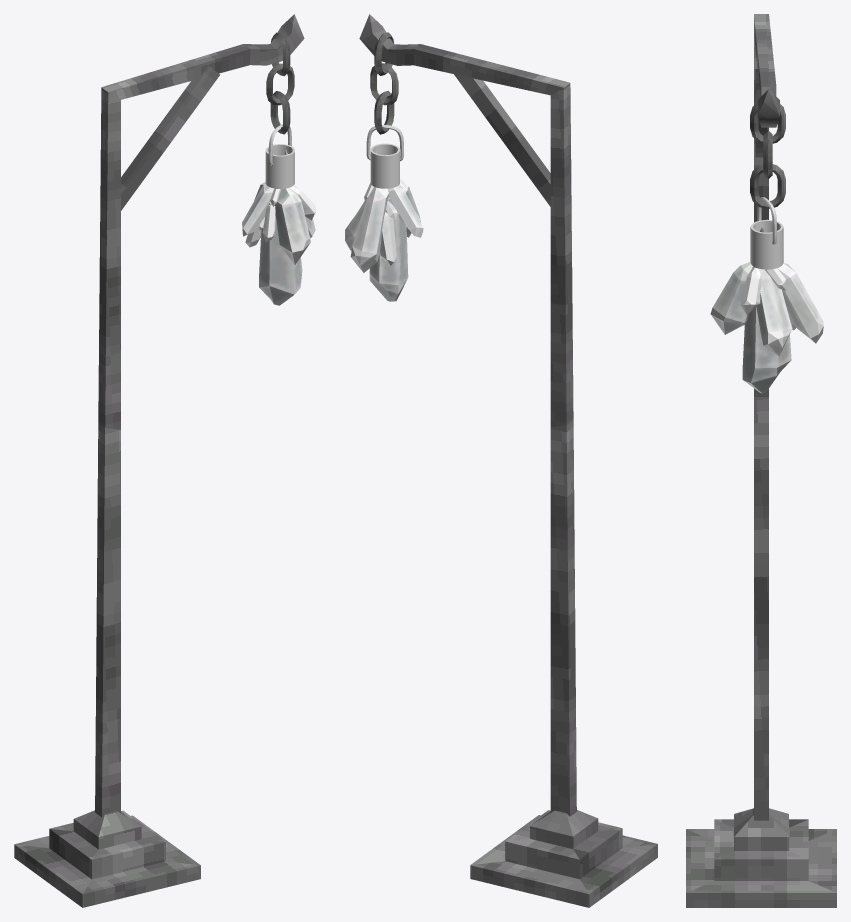
File: Pole_White.fbx
3 views of the same model, side by side, from view 1: azimuth 30°, elevation 25°; view 2: azimuth 150°, elevation 25°; view 3: azimuth 270°, elevation 25° (orthographic). The views are drawn at different scales.
Visible parts, largest first — view 1: New.001, Crystal03, dfk_chainlink, Crystal03.001; view 2: New.001, Crystal03, Crystal03.001, dfk_chainlink; view 3: New.001, Crystal03, dfk_chainlink, Crystal03.001.
Part boxes in pixels (left/top/right/bottom): New.001: left=14, top=14, right=304, bottom=907; Crystal03: left=242, top=182, right=316, bottom=305; dfk_chainlink: left=266, top=32, right=294, bottom=134; Crystal03.001: left=265, top=124, right=294, bottom=188; New.001: left=359, top=14, right=657, bottom=907; Crystal03: left=345, top=178, right=423, bottom=301; Crystal03.001: left=366, top=125, right=403, bottom=188; dfk_chainlink: left=370, top=32, right=398, bottom=134; New.001: left=686, top=14, right=836, bottom=907; Crystal03: left=710, top=262, right=823, bottom=393; dfk_chainlink: left=750, top=102, right=785, bottom=208; Crystal03.001: left=750, top=197, right=783, bottom=269.
Size of the model in its own units: 124 by 353 by 54.33.
